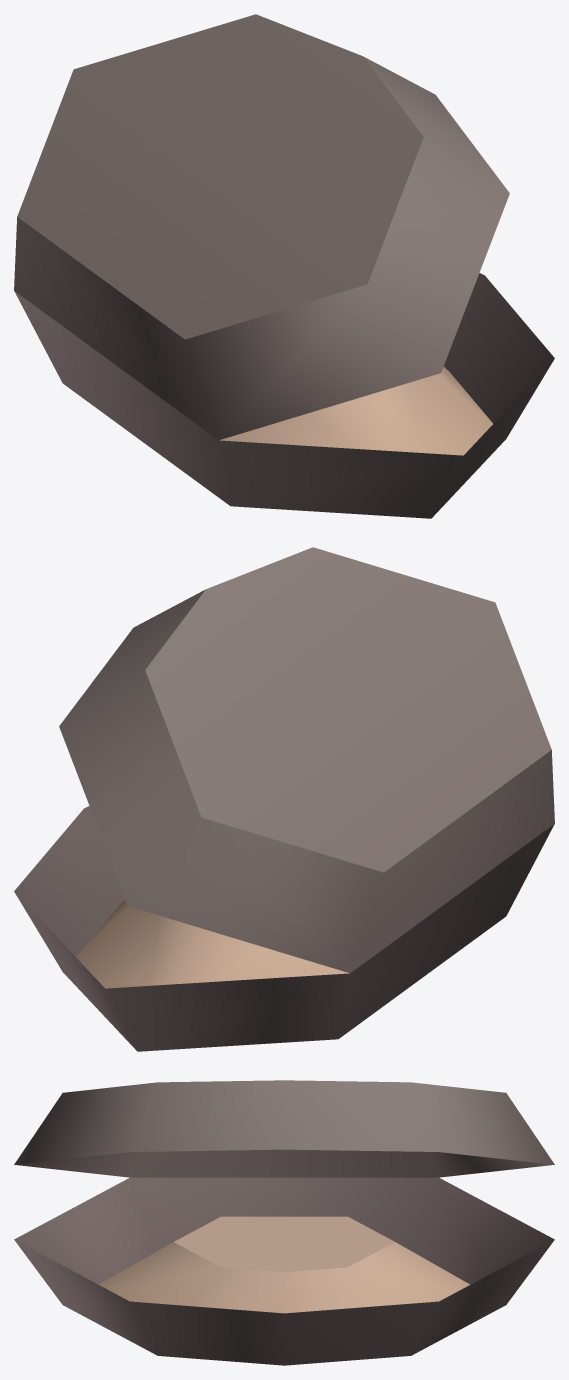
The model's file is mussel-open.glb.
3 renders of one model, top to bottom at view 1: azimuth 30°, elevation 25°; view 2: azimuth 150°, elevation 25°; view 3: azimuth 270°, elevation 25°, orthographic. The views are drawn at different scales.
Parts seen in each view (by area): view 1: mussel-open; view 2: mussel-open; view 3: mussel-open.
Boxes of the visible parts, x1,y1,x2,y2 form: mussel-open: (14, 14, 554, 518); mussel-open: (14, 547, 554, 1051); mussel-open: (14, 1080, 554, 1365).
Bounding box in the file's own units: 0.0961 × 0.0804 × 0.1554.
